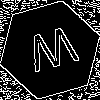W: (25, 25, 83, 82)
